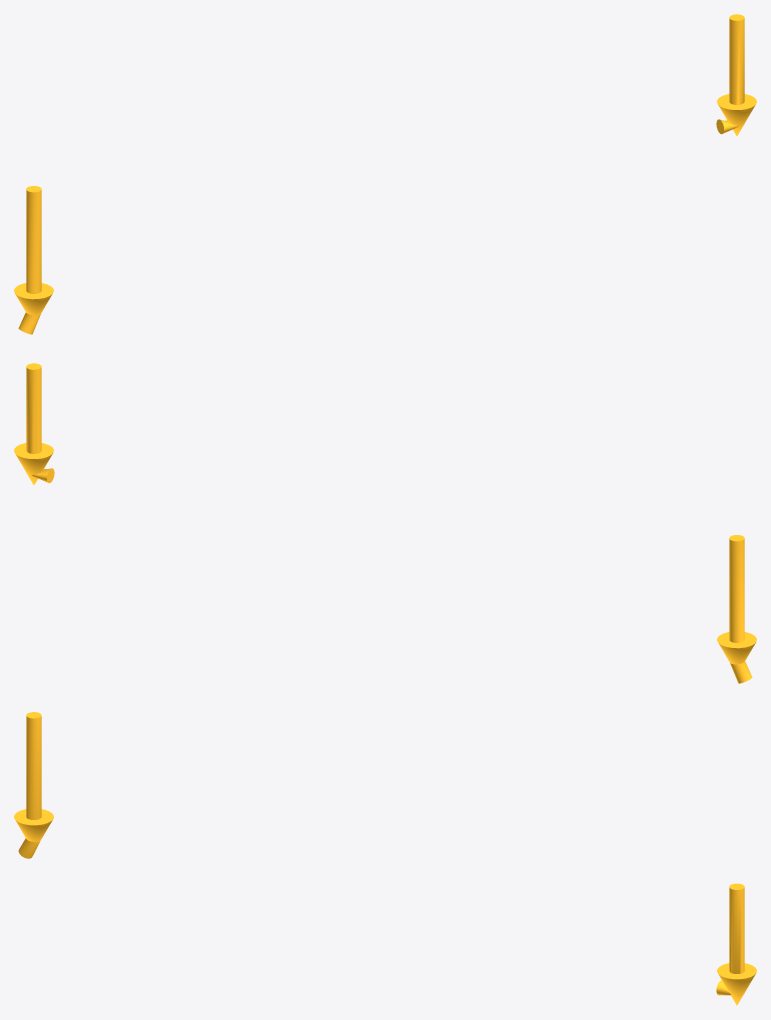
The model's file is hydraulic_cylinder_flow.glb.
The picture shows the model from 3 angles, top to bottom: view 1: azimuth 30°, elevation 25°; view 2: azimuth 150°, elevation 25°; view 3: azimuth 330°, elevation 25°; orthographic projection.
Visible parts, largest first — view 1: extend, retract; view 2: extend, retract; view 3: extend, retract.
Part boxes in pixels (x1=…): extend: x1=14, y1=186, x2=53, y2=334; retract: x1=716, y1=14, x2=756, y2=135; extend: x1=717, y1=535, x2=756, y2=683; retract: x1=14, y1=363, x2=54, y2=484; extend: x1=14, y1=712, x2=53, y2=858; retract: x1=716, y1=883, x2=756, y2=1005.
Bounding box in the file's own units: 0.8816 × 0.1636 × 0.0416.
